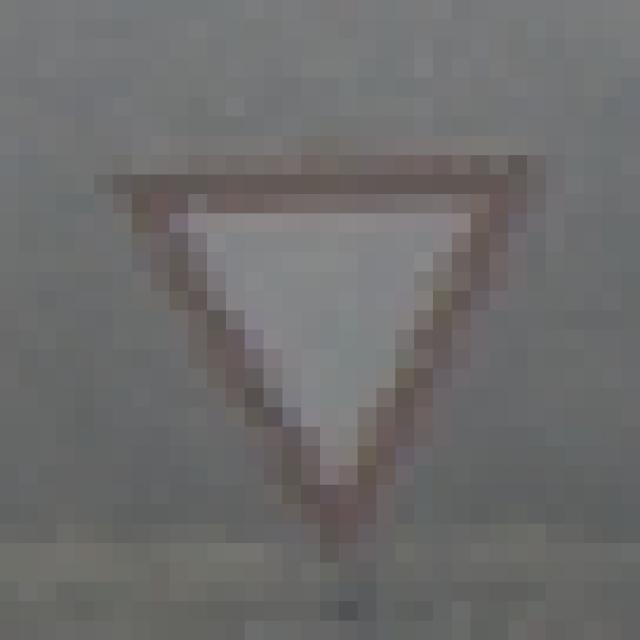Give Way: (95, 117, 547, 544)
